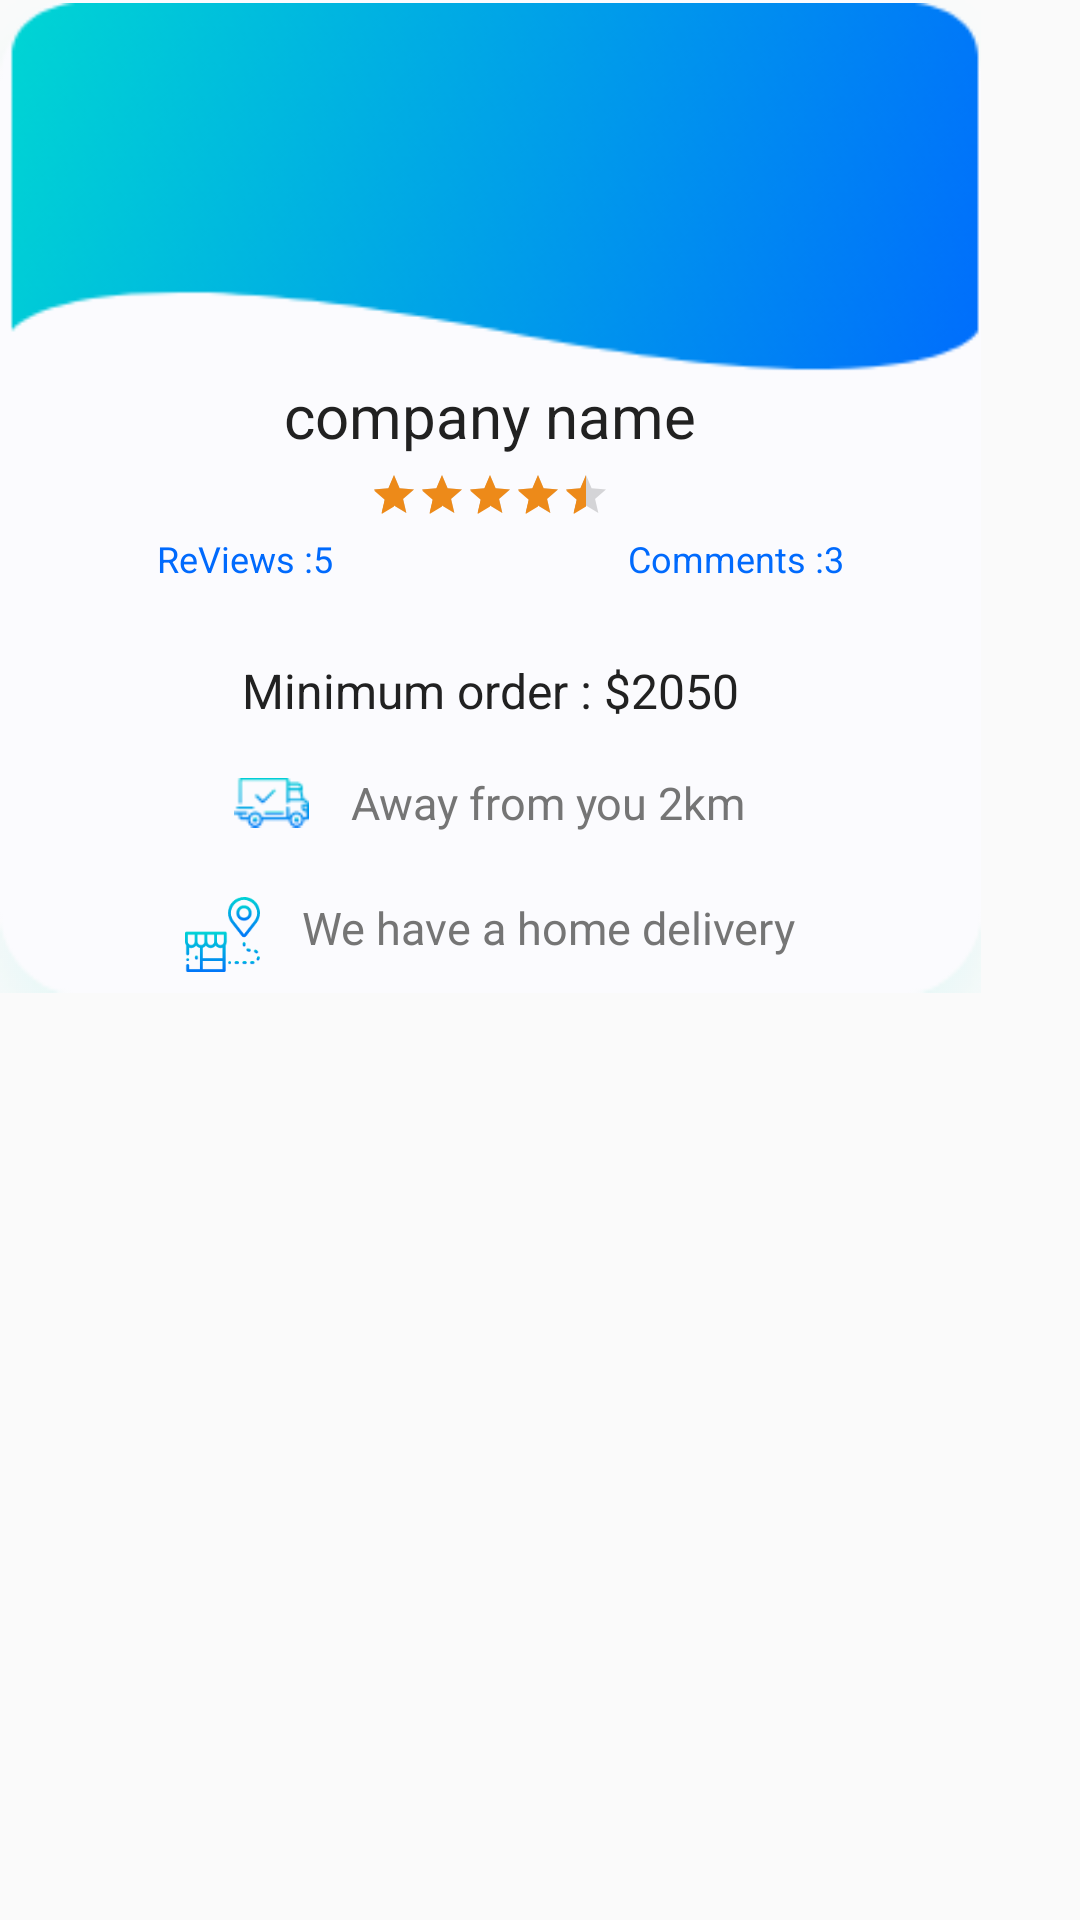

Point at icon controls on the screen. Image size 1080px×1920px, points as point (x, y).
car company details: point (271, 803)
route iamge company details: point (222, 934)
